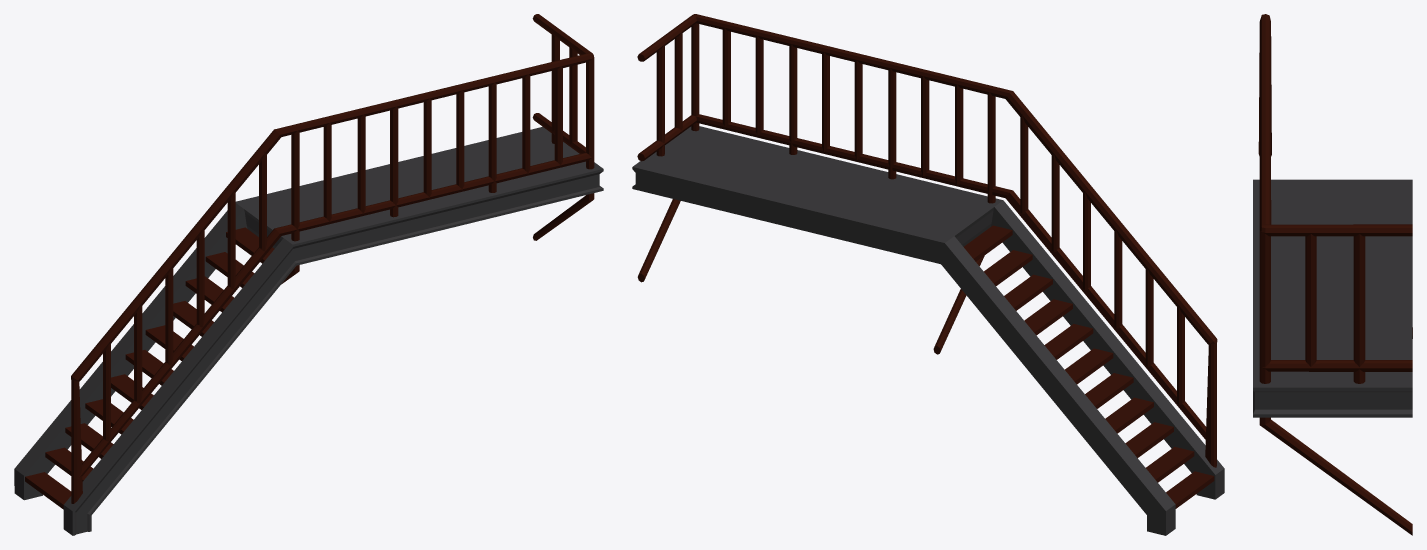
File: Balcony_Stairs.fbx
3 renders of one model, left to right at view 1: azimuth 30°, elevation 25°; view 2: azimuth 150°, elevation 25°; view 3: azimuth 270°, elevation 25°, orthographic. The views are drawn at different scales.
Visible parts, largest first — view 1: Balcony_Stairs; view 2: Balcony_Stairs; view 3: Balcony_Stairs.
Boxes of the visible parts, left/top/right/bottom form: Balcony_Stairs: left=14, top=14, right=603, bottom=535; Balcony_Stairs: left=632, top=14, right=1224, bottom=535; Balcony_Stairs: left=1253, top=14, right=1412, bottom=535.
Bounding box in the file's own units: 2578 × 1635 × 491.
